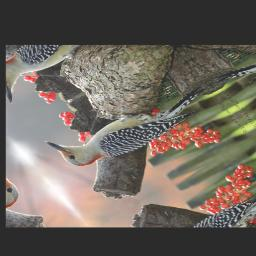Woodpecker: (39, 61, 227, 181)
